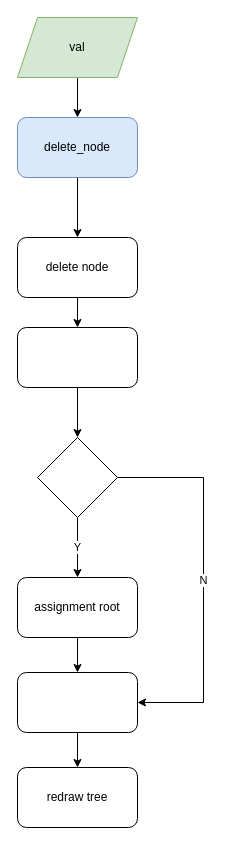
Image size: 229x845. Some labels were removed from this diagram. The shapes that lost their labels are listed below. From the top down, each one's box as (x1, y1, x2, y2) in pixels, then its label:
(16, 326, 138, 388): delete data
(36, 436, 118, 518): is root node
(16, 672, 138, 732): connect node
